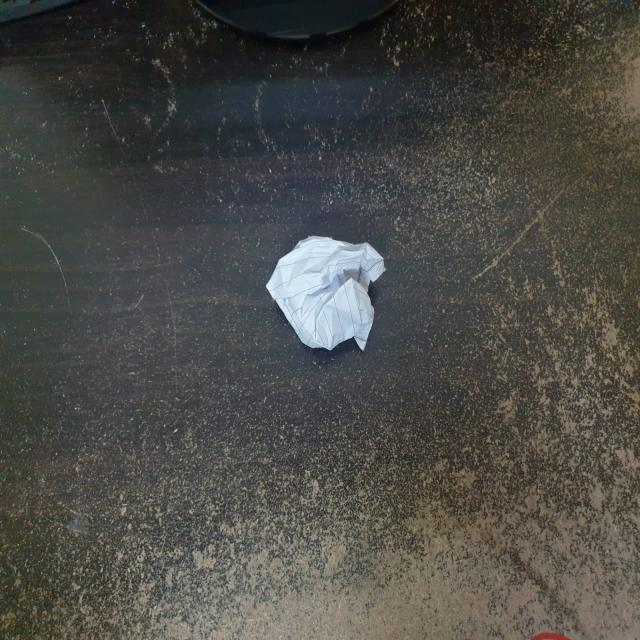Paper: (266, 235, 387, 344)
